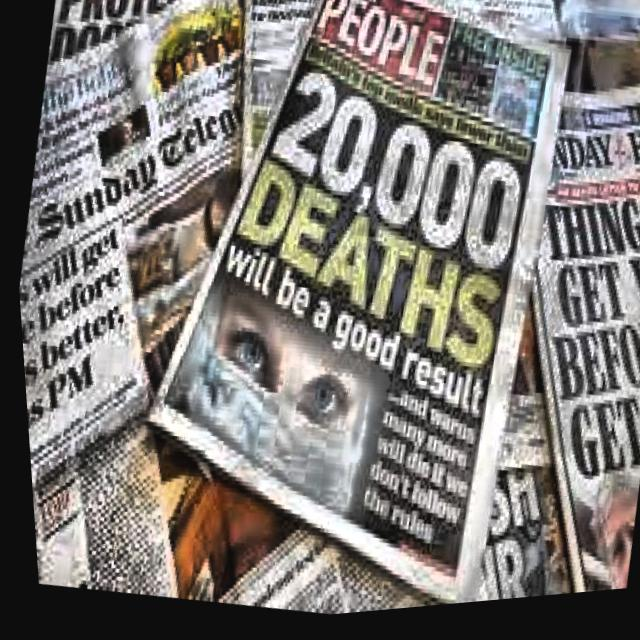Paper: (0, 0, 640, 640), (81, 0, 609, 634), (4, 55, 338, 621), (437, 66, 640, 610), (201, 0, 579, 248), (9, 0, 278, 278), (446, 282, 636, 610), (43, 0, 248, 99)
